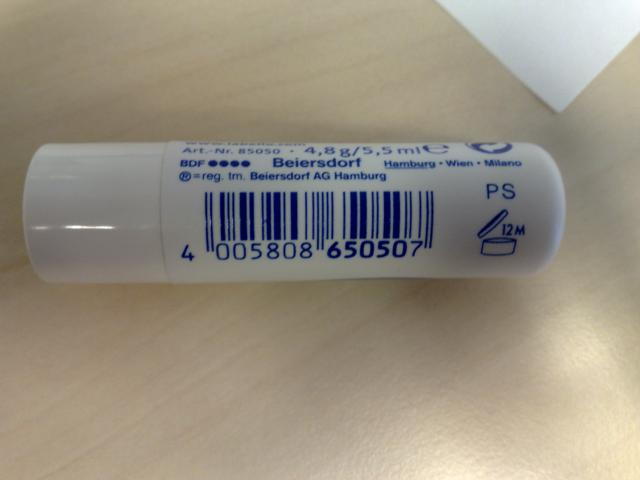Barkod: (202, 189, 434, 238)
